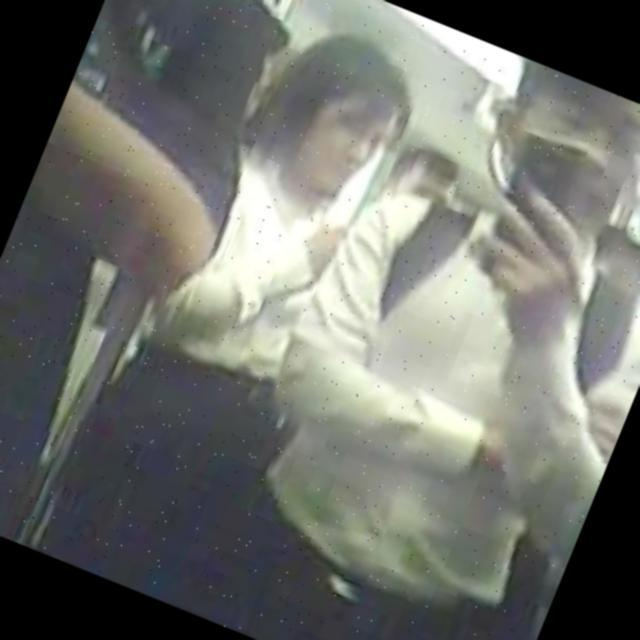person: (175, 13, 640, 640), (23, 0, 444, 625), (0, 0, 326, 571)
